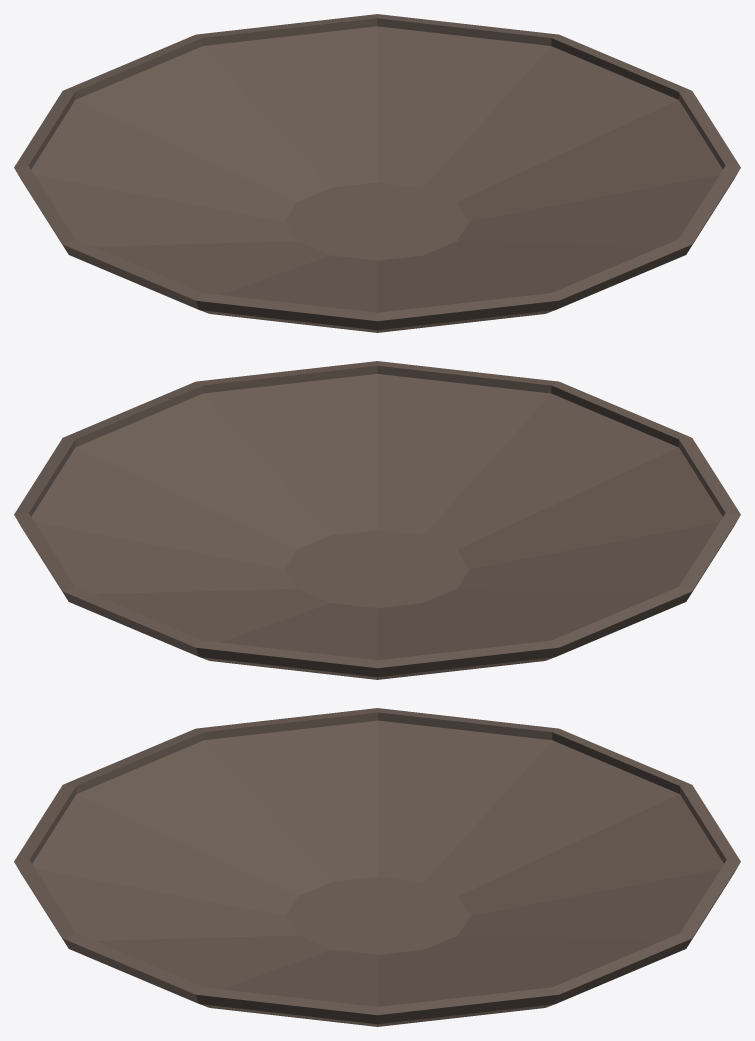
Rendered from Plate.glb.
The picture shows the model from 3 angles, top to bottom: view 1: azimuth 30°, elevation 25°; view 2: azimuth 150°, elevation 25°; view 3: azimuth 270°, elevation 25°; orthographic projection.
Parts seen in each view (by area): view 1: Sphere; view 2: Sphere; view 3: Sphere.
Part boxes in pixels (x1=…): Sphere: x1=14, y1=14, x2=740, y2=332; Sphere: x1=14, y1=361, x2=740, y2=679; Sphere: x1=14, y1=708, x2=740, y2=1026.
Bounding box in the file's own units: 2 × 0.2024 × 2.
